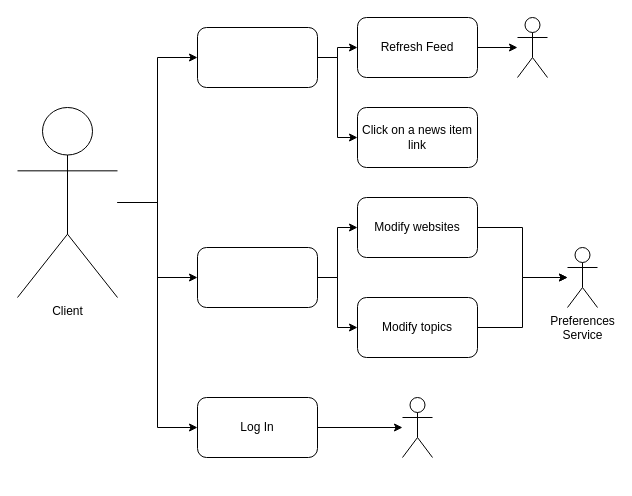
The diagram is 632 pixels wide and 496 high, and some of its shapes have lost their labels. The centre of each missing label's shape, as x and y in pixels:
"Filter Service" belongs at (532,47).
"Open news feed" belongs at (257,57).
"Open preferences" belongs at (257,277).
"User Service" belongs at (417,427).
